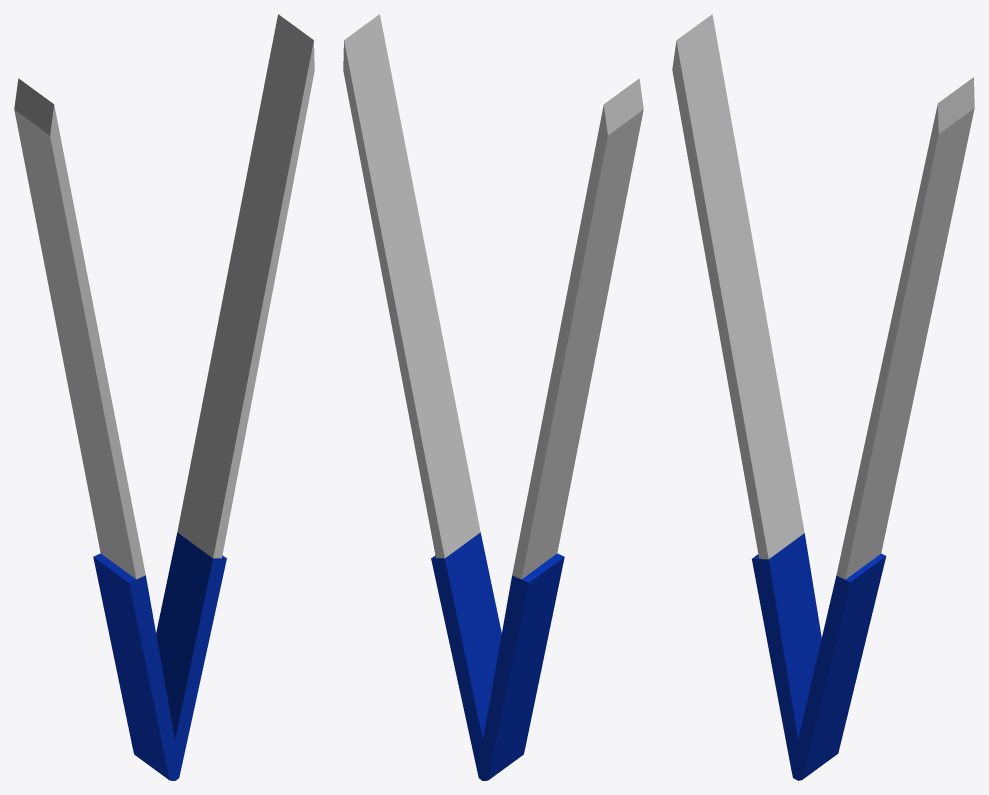
The model's file is Tongs.fbx.
3 renders of one model, left to right at view 1: azimuth 30°, elevation 25°; view 2: azimuth 150°, elevation 25°; view 3: azimuth 330°, elevation 25°, orthographic.
Parts seen in each view (by area): view 1: Cube; view 2: Cube; view 3: Cube.
Boxes of the visible parts, x1,y1,x2,y2 form: Cube: [14, 14, 314, 780]; Cube: [343, 14, 643, 780]; Cube: [672, 14, 974, 780].
Size of the model in its own units: 143 by 365 by 33.47.
